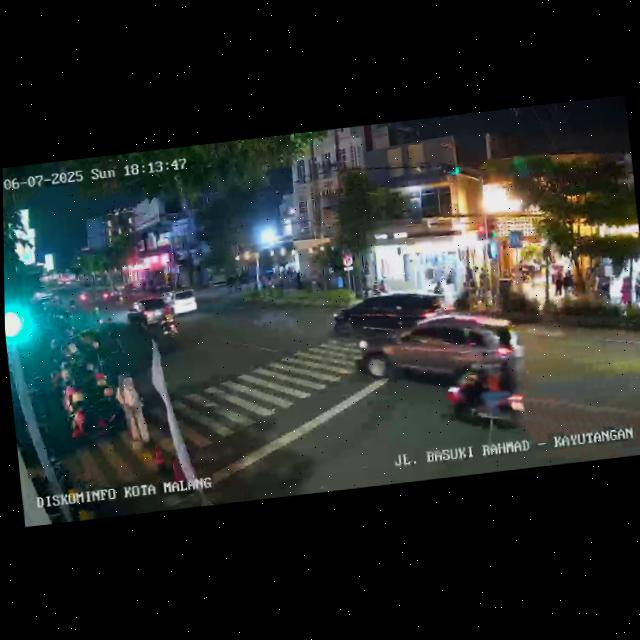car: (355, 304, 525, 399), (330, 285, 446, 339), (124, 293, 176, 336), (160, 288, 200, 316)
motorcycle: (439, 343, 533, 443), (157, 300, 181, 341)
person: (113, 370, 152, 450), (617, 275, 633, 310), (550, 265, 565, 299), (562, 265, 577, 299), (633, 272, 640, 307), (433, 281, 444, 295)
